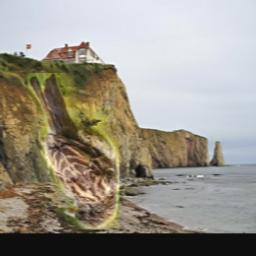Sparrow: (28, 74, 119, 230)
